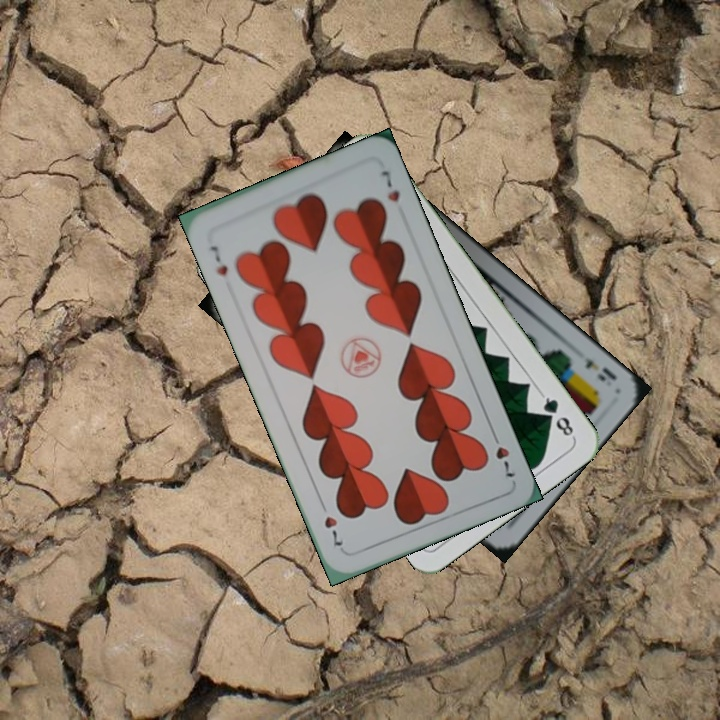EK: (573, 345, 619, 384)
G8: (537, 390, 577, 441)
H7: (486, 426, 518, 480), (205, 241, 231, 279)
